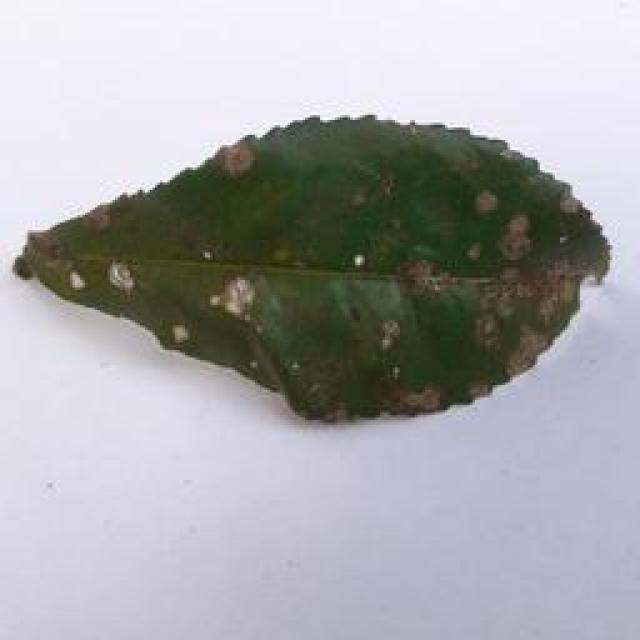Algal Leaf Spot: (18, 108, 611, 426)
